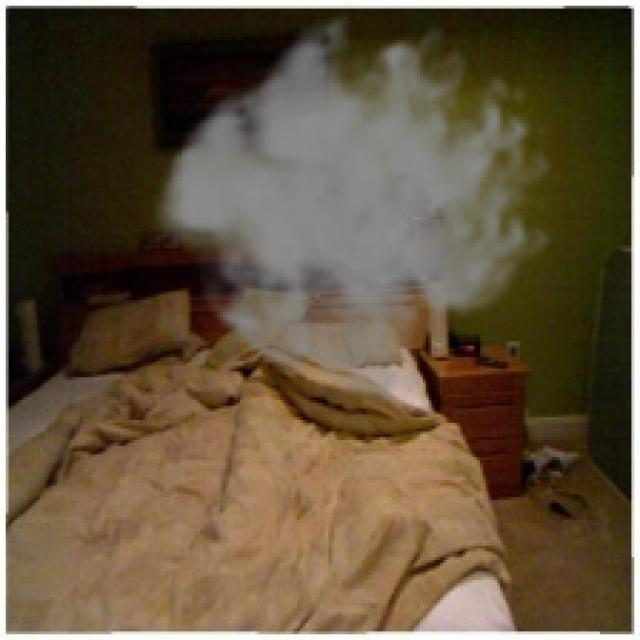Smoke: (151, 0, 555, 412)
